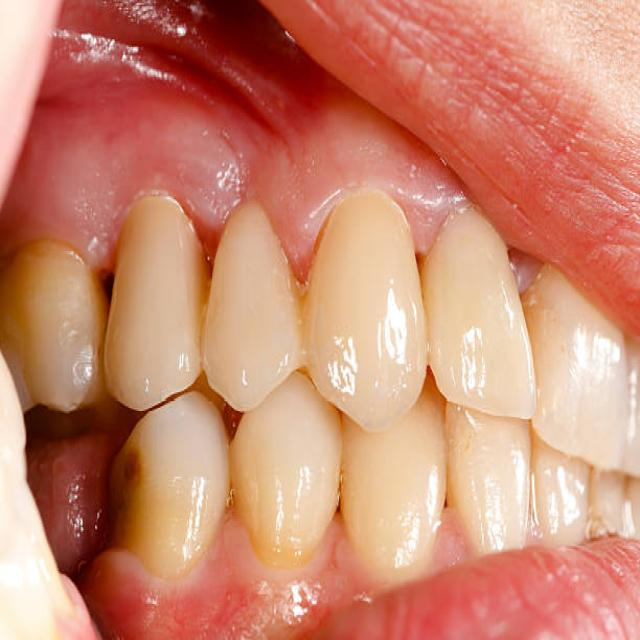caries: (82, 249, 142, 347)
